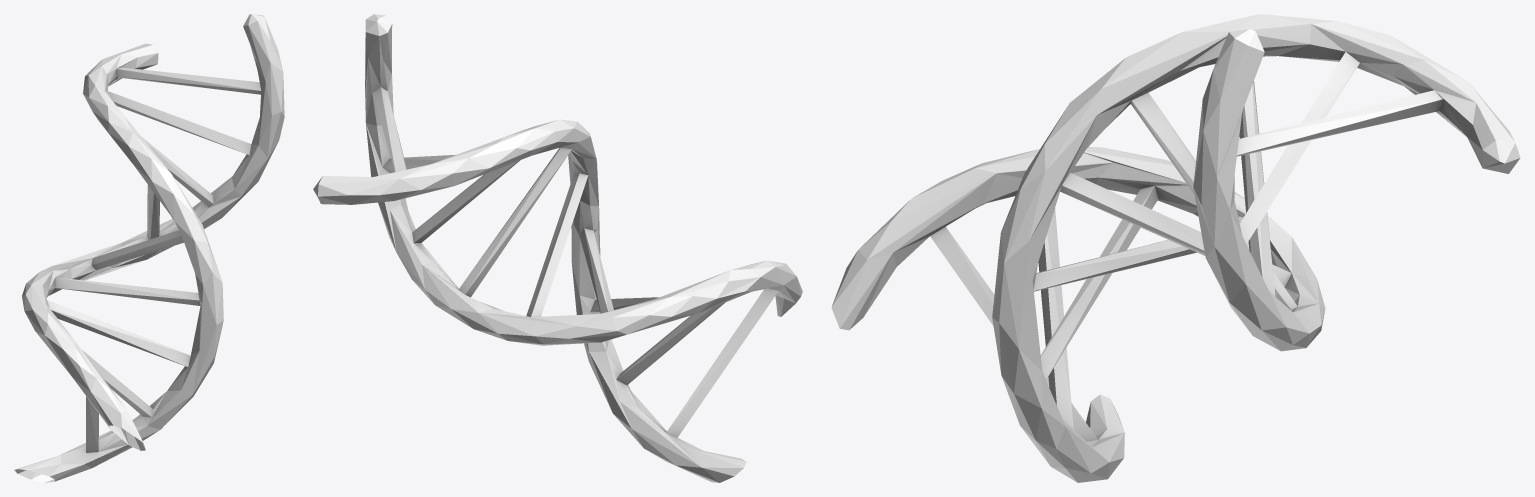
Rendered from ADN.glb.
The picture shows the model from 3 angles, left to right: view 1: azimuth 30°, elevation 25°; view 2: azimuth 150°, elevation 25°; view 3: azimuth 270°, elevation 25°; orthographic projection. The views are drawn at different scales.
Parts seen in each view (by area): view 1: DNA; view 2: DNA; view 3: DNA.
Boxes of the visible parts, left/top/right/bottom form: DNA: left=14, top=14, right=284, bottom=482; DNA: left=313, top=14, right=802, bottom=482; DNA: left=831, top=14, right=1520, bottom=482.
Bounding box in the file's own units: 9.74 × 11.66 × 11.55.
Materials: 1 (1 with a texture image).
